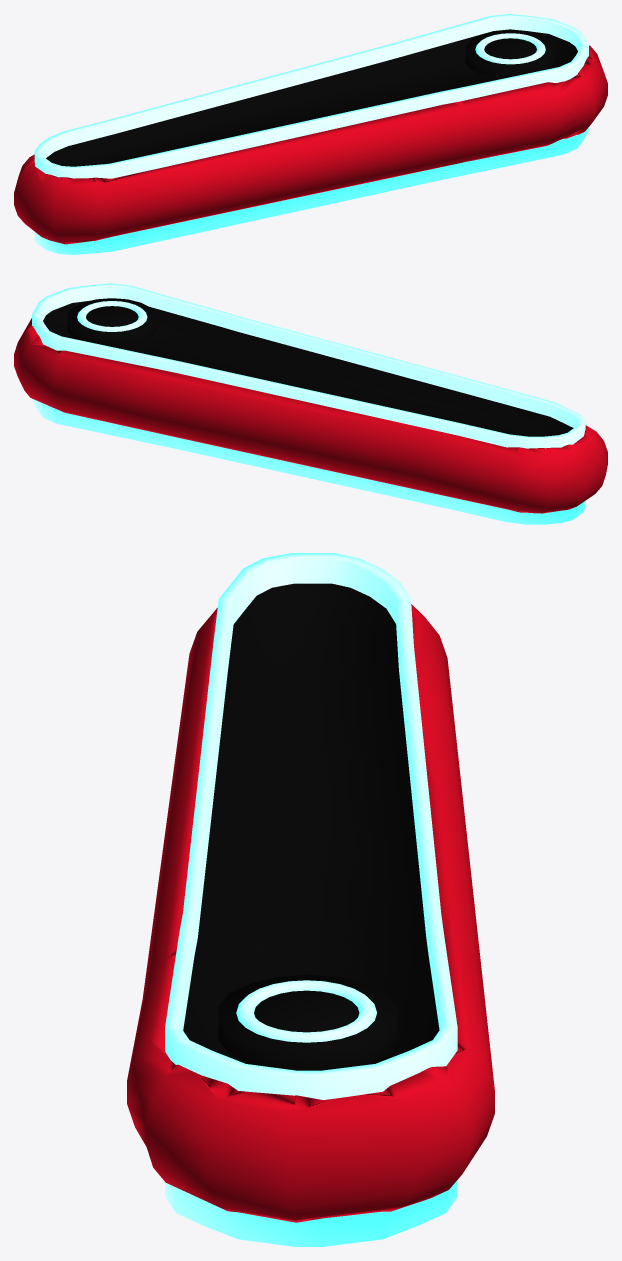
The model's file is BareFlipper.fbx.
3 views of the same model, one above another, from view 1: azimuth 30°, elevation 25°; view 2: azimuth 150°, elevation 25°; view 3: azimuth 270°, elevation 25° (orthographic). The views are drawn at different scales.
Visible parts, largest first — view 1: Box001, Cylinder008, Cylinder006, Torus001; view 2: Box001, Cylinder008, Cylinder006, Torus001; view 3: Box001, Cylinder008, Cylinder006, Torus001.
Part boxes in pixels (x1,y1,x2,y2): Box001: [34, 14, 588, 254]; Cylinder008: [14, 45, 607, 244]; Cylinder006: [465, 30, 555, 78]; Torus001: [475, 33, 545, 64]; Box001: [32, 283, 585, 524]; Cylinder008: [14, 318, 607, 513]; Cylinder006: [67, 298, 156, 346]; Torus001: [77, 301, 147, 331]; Box001: [165, 553, 457, 1246]; Cylinder008: [127, 604, 494, 1222]; Cylinder006: [218, 974, 396, 1070]; Torus001: [236, 980, 376, 1042].
Bounding box in the file's own units: 1275 × 184 × 355.
